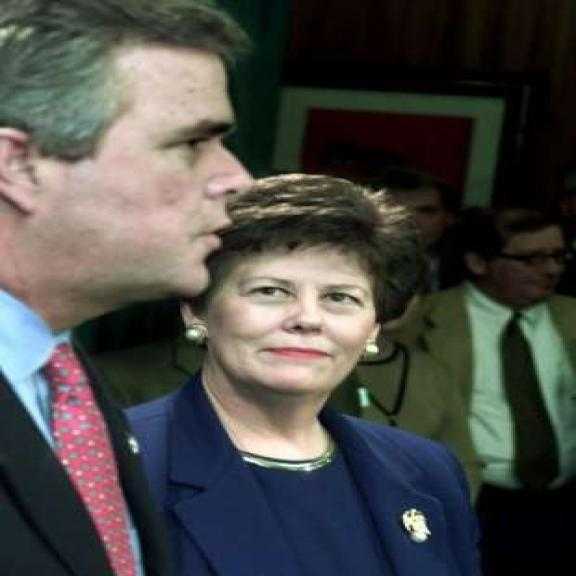face: (0, 37, 255, 304), (178, 231, 396, 396), (471, 224, 571, 306)
